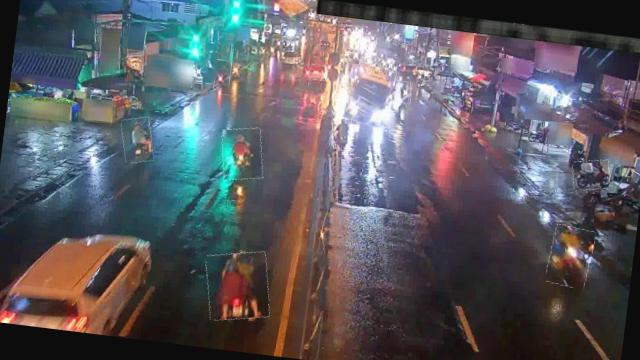Bike: (201, 247, 274, 324), (544, 224, 594, 288), (218, 125, 266, 183), (118, 114, 156, 165), (570, 158, 611, 192), (327, 117, 352, 151), (212, 60, 232, 92), (398, 80, 412, 103)
Bus: (344, 62, 394, 128)
